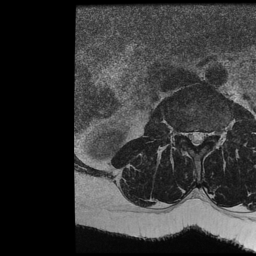CCS_stenosis: (193, 123, 200, 156)
LFS_stenosis: (207, 123, 215, 143)
LLS_normal: (200, 123, 207, 147)
RFS_stenosis: (178, 121, 186, 144)
RLS_normal: (186, 123, 193, 148)
